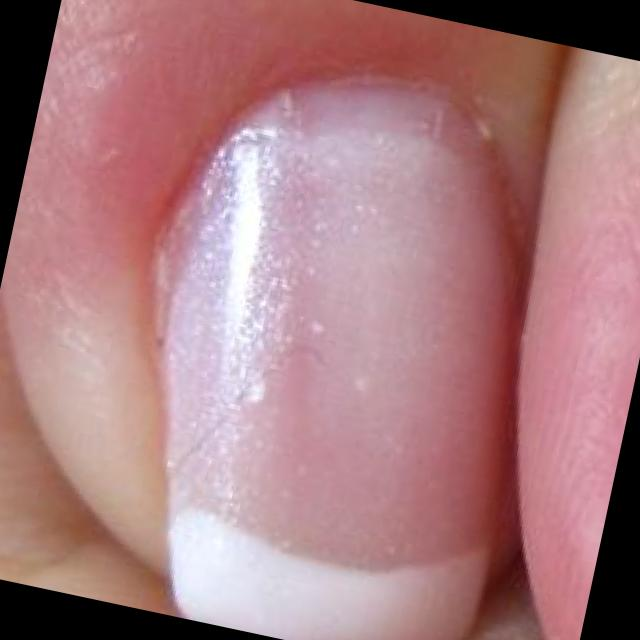Nail: (156, 84, 510, 640)
